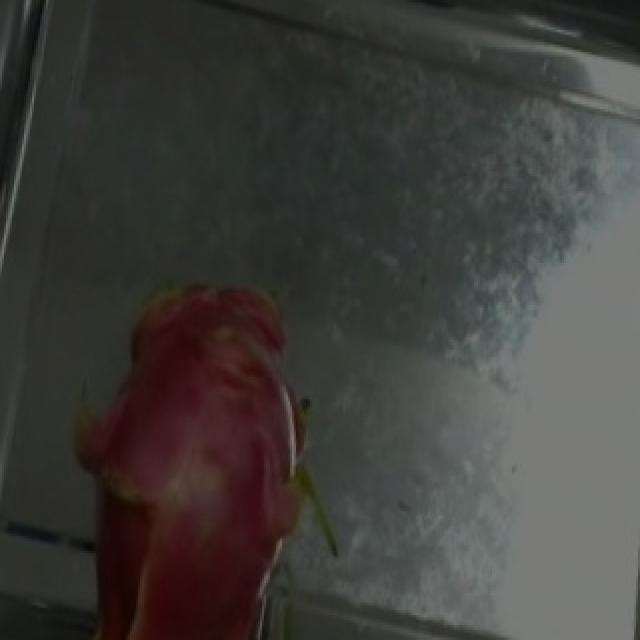fruit: (4, 228, 376, 640)
